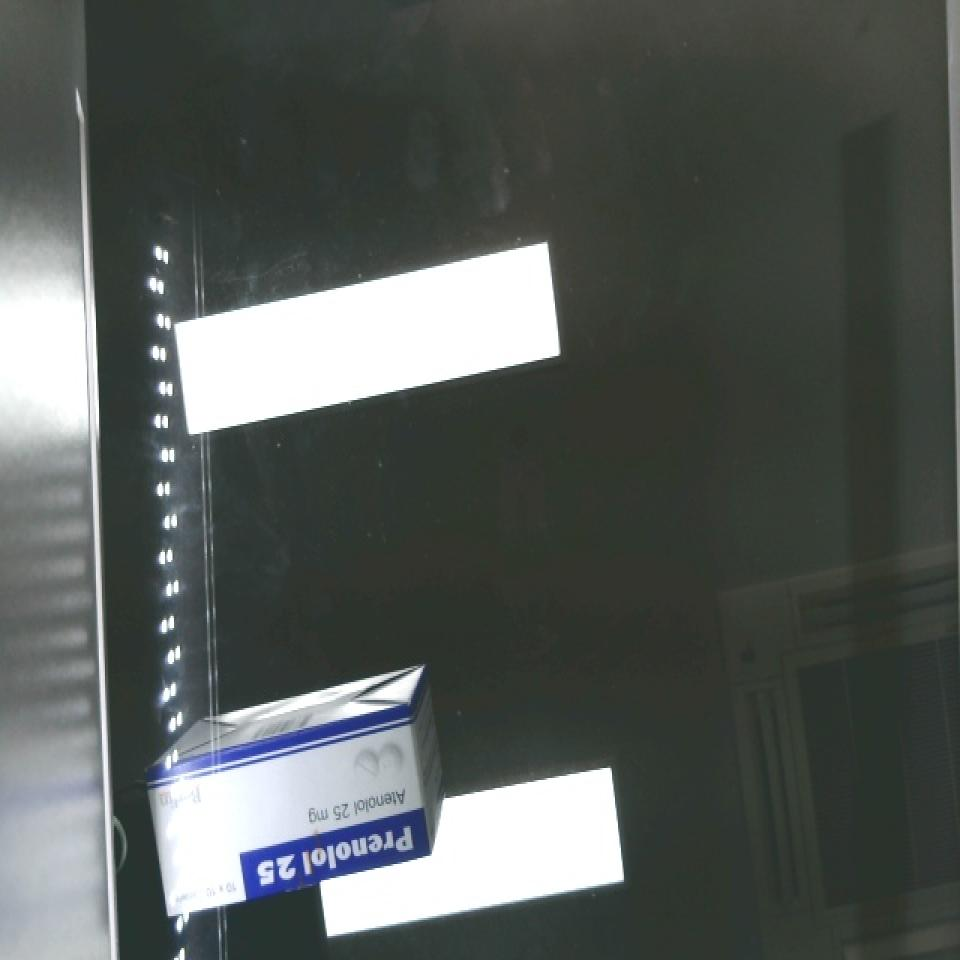medicine_box: (129, 702, 447, 920)
medicine_label_obb: (235, 807, 431, 901)
